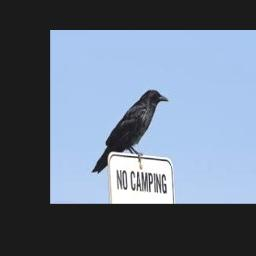Crow: (91, 89, 169, 173)
